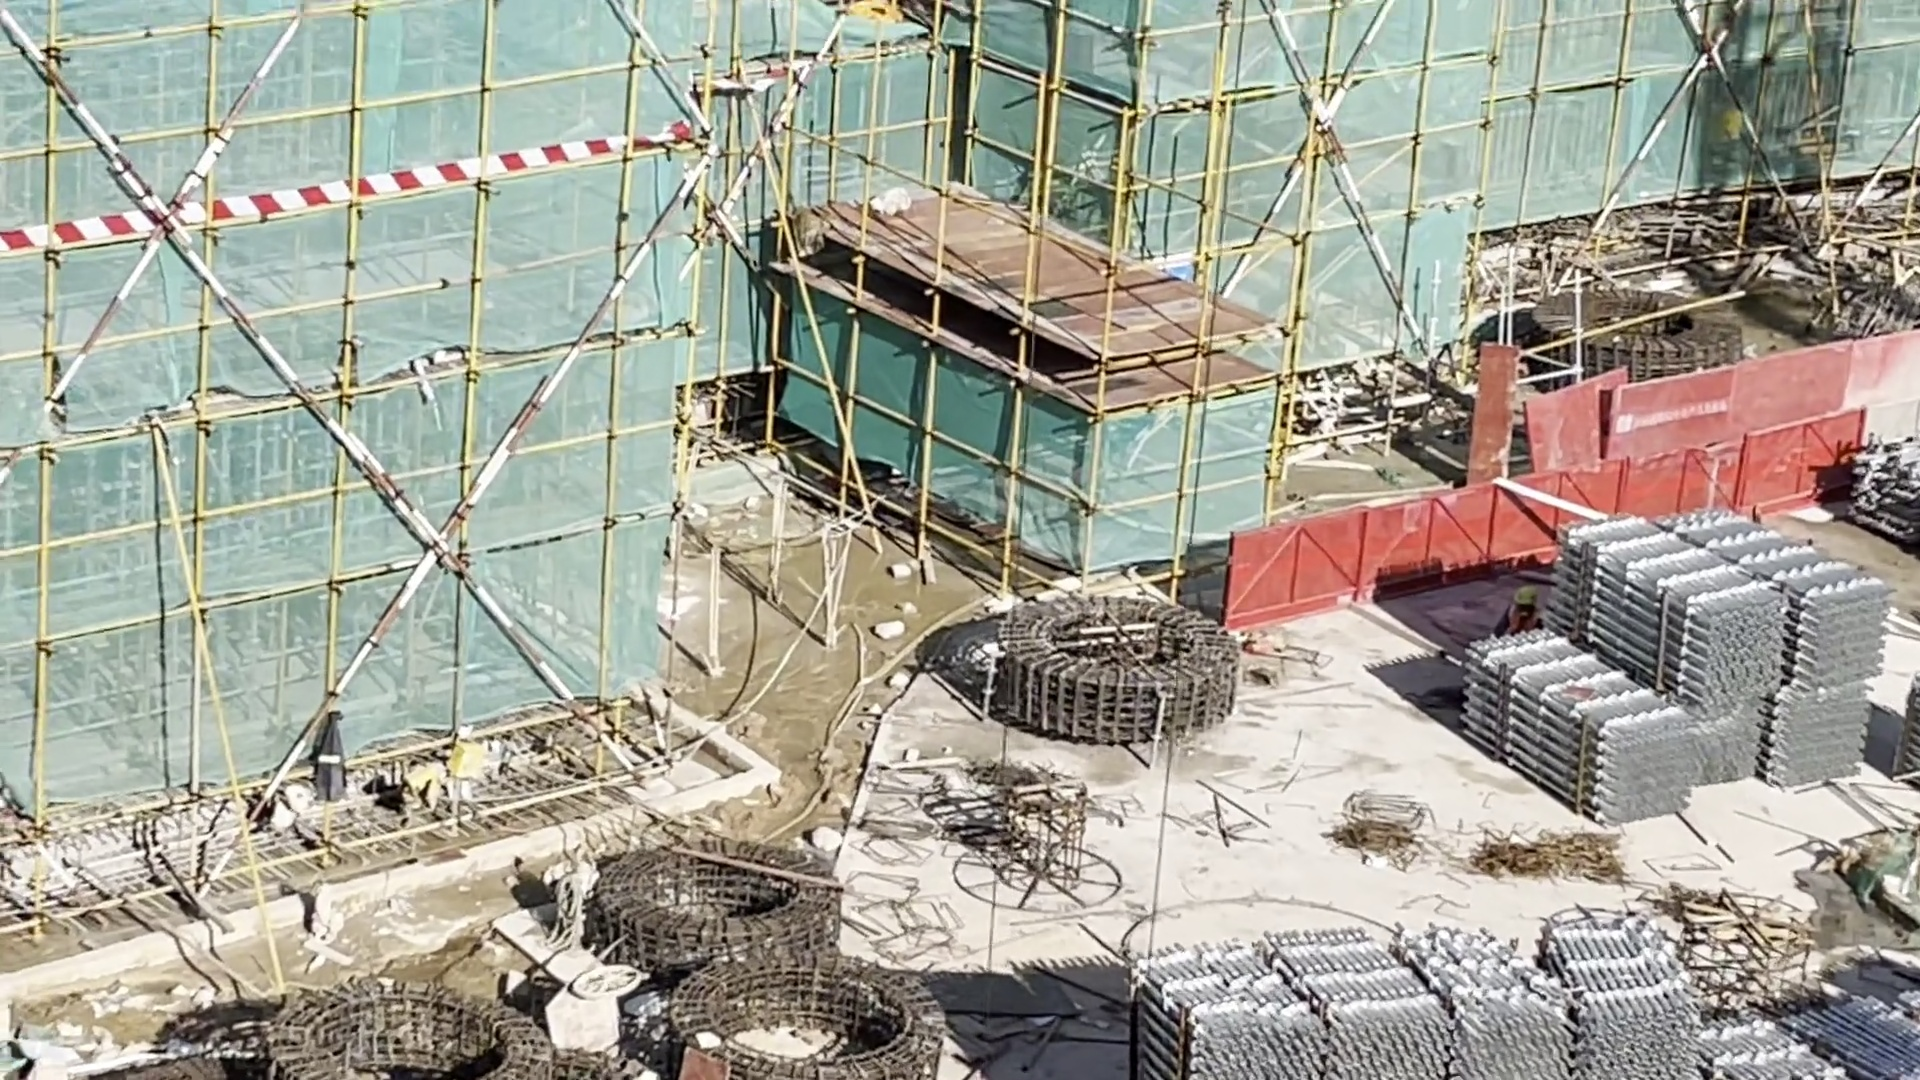fence: (1220, 402, 1920, 636)
helmet: (1516, 575, 1545, 607)
person: (1504, 576, 1538, 641)
scaffold: (1456, 520, 1884, 817), (1114, 930, 1754, 1080)
